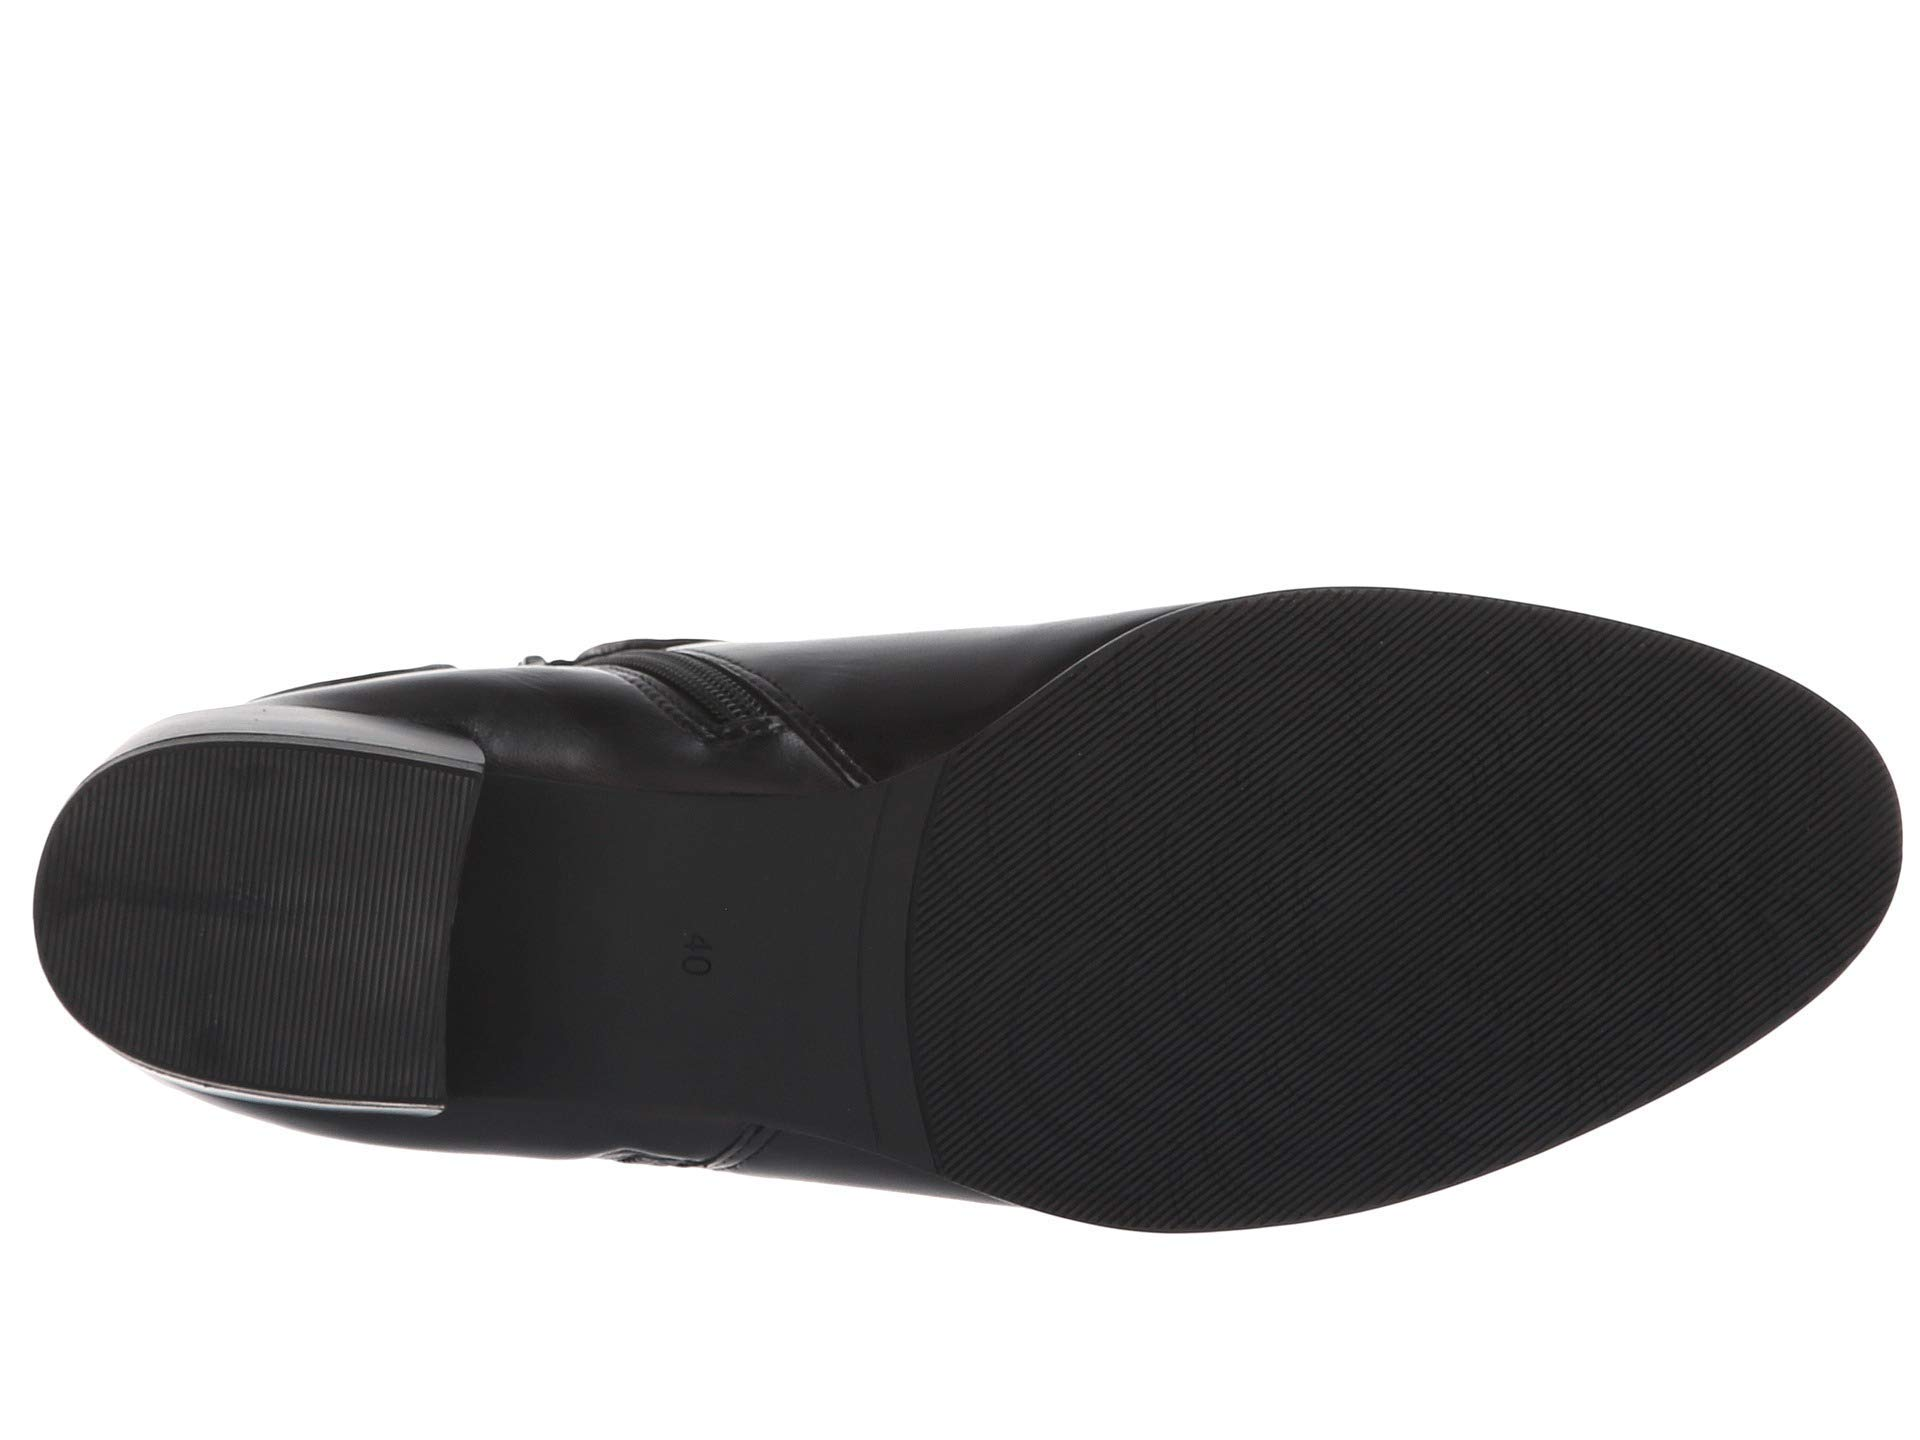circle: (623, 874, 754, 1015)
line: (1067, 678, 1751, 1054), (116, 759, 414, 1054), (857, 753, 948, 1178)
other: (1067, 678, 1751, 1054)
text: (623, 874, 754, 1015)
